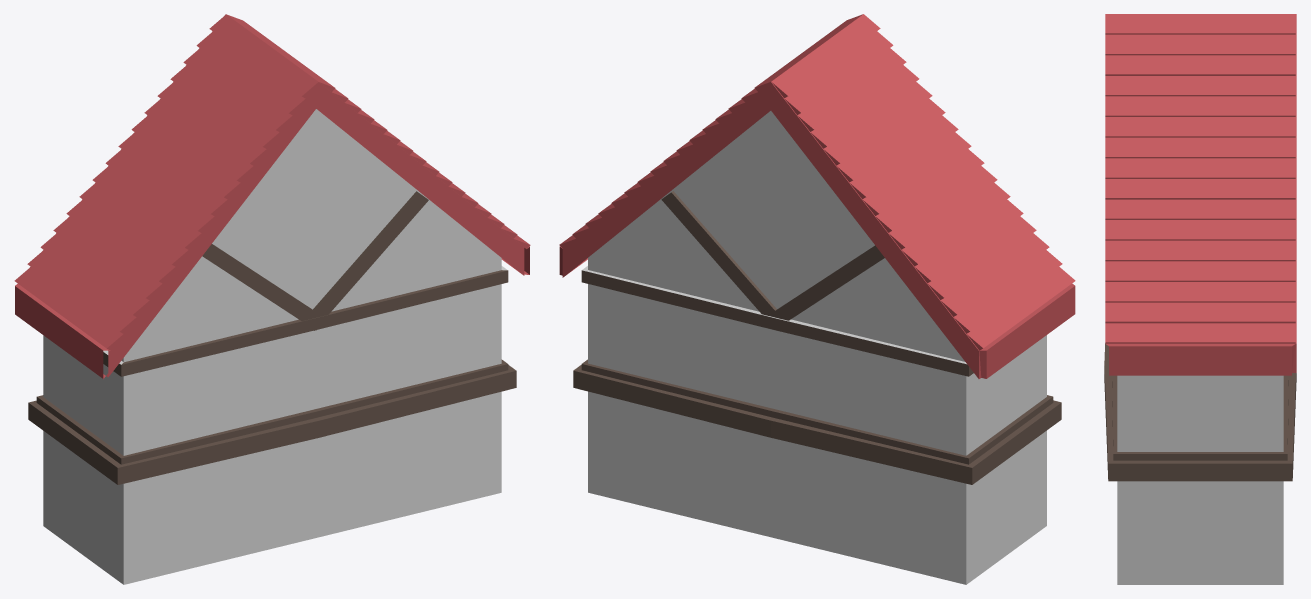
File: stage1_house_l.fbx
The picture shows the model from 3 angles, left to right: view 1: azimuth 30°, elevation 25°; view 2: azimuth 150°, elevation 25°; view 3: azimuth 270°, elevation 25°; orthographic projection. The views are drawn at different scales.
Parts seen in each view (by area): view 1: house; view 2: house; view 3: house.
Boxes of the visible parts, <box> form: house: <box>14,14,530,584</box>; house: <box>559,14,1075,584</box>; house: <box>1104,14,1296,584</box>.
Size of the model in its own units: 18243 by 18849 by 6900.
